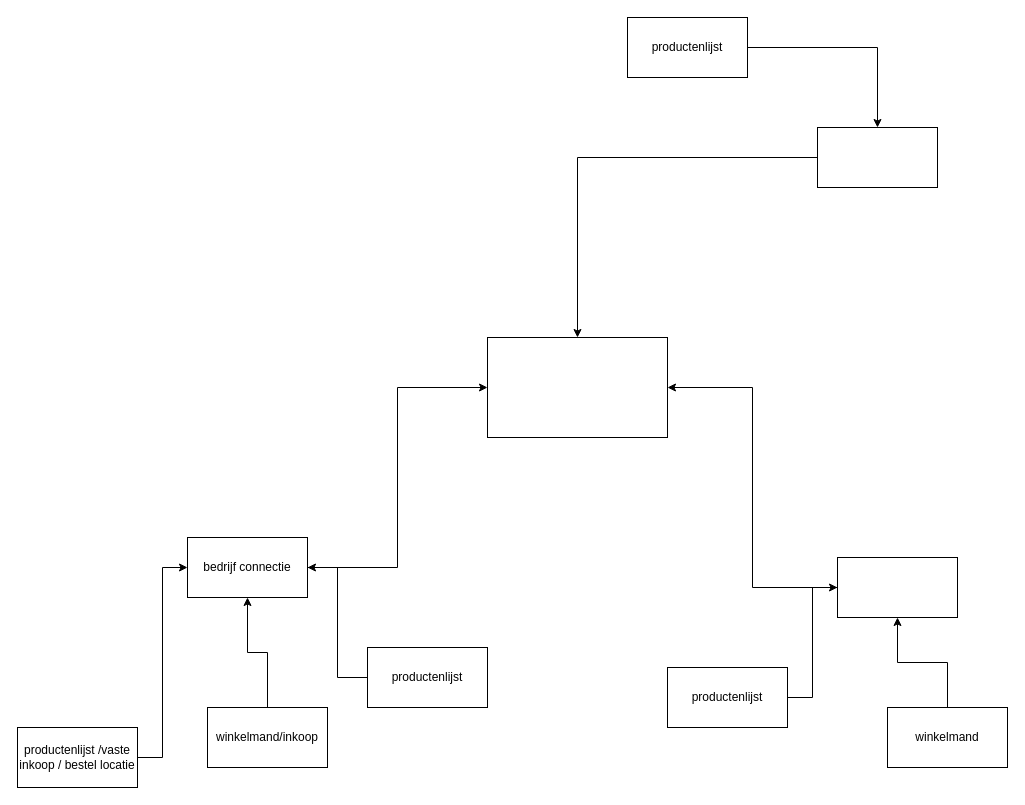
Image size: 1025x805. Some labels were removed from this diagram. The shapes that lost their labels are listed below. From the top down, each one's centre as x and y in pixels, then its label:
the point at 877,157: leverancier connectie
the point at 577,387: inlogformulier (bedrijf//klant\\leverancier
the point at 897,587: klant connectie
